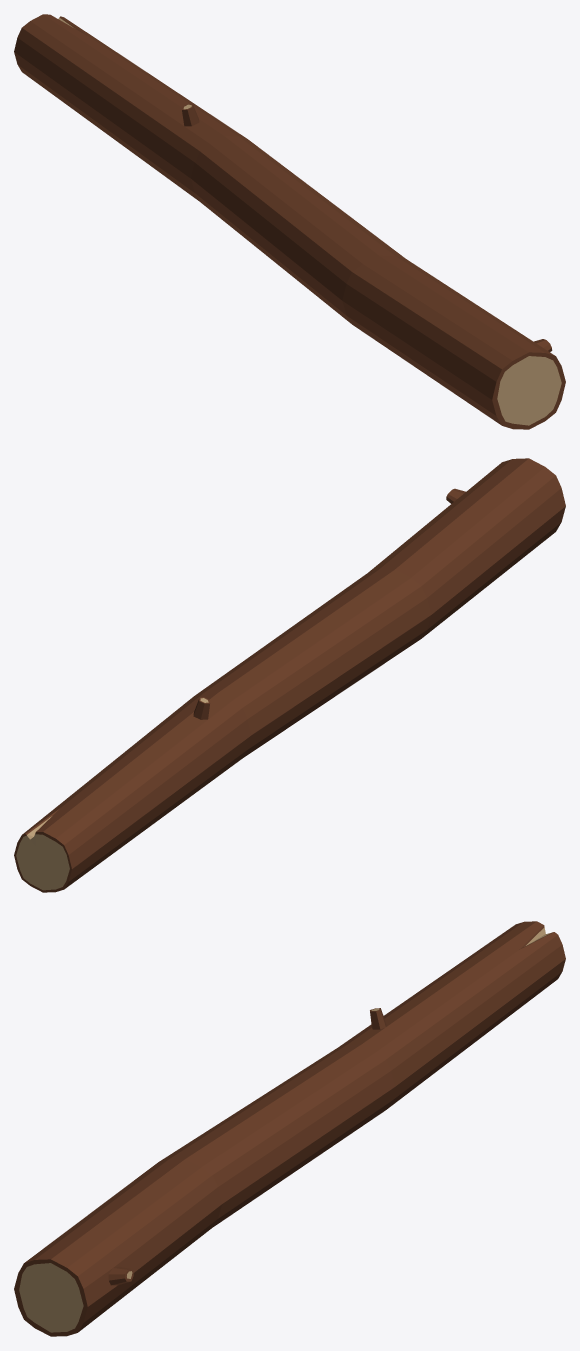
Rendered from Log.fbx.
3 views of the same model, one above another, from view 1: azimuth 30°, elevation 25°; view 2: azimuth 150°, elevation 25°; view 3: azimuth 330°, elevation 25° (orthographic).
Visible parts, largest first — view 1: Cube.008; view 2: Cube.008; view 3: Cube.008.
Boxes of the visible parts, x1,y1,x2,y2 form: Cube.008: (14,14,565,429); Cube.008: (14,458,565,892); Cube.008: (14,921,565,1336).
Size of the model in its own units: 256 by 218 by 2280.
